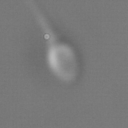normal: (23, 1, 61, 46)
